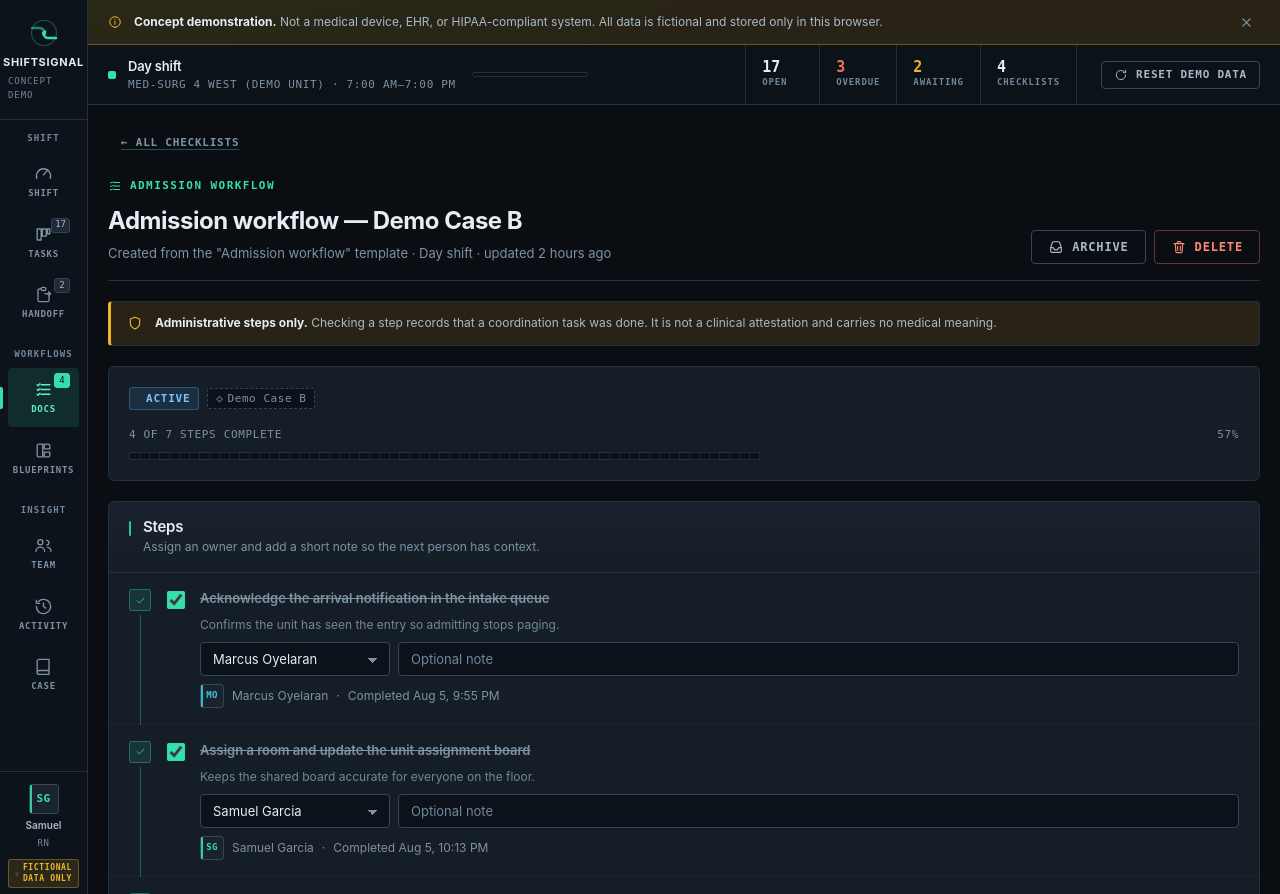
Test case: Checklist workflows › reopens a completed step
Click the checkbox labelled "Acknowledge the arrival notification in the intake queue". click: (176, 600)
box: [167, 591, 185, 609]
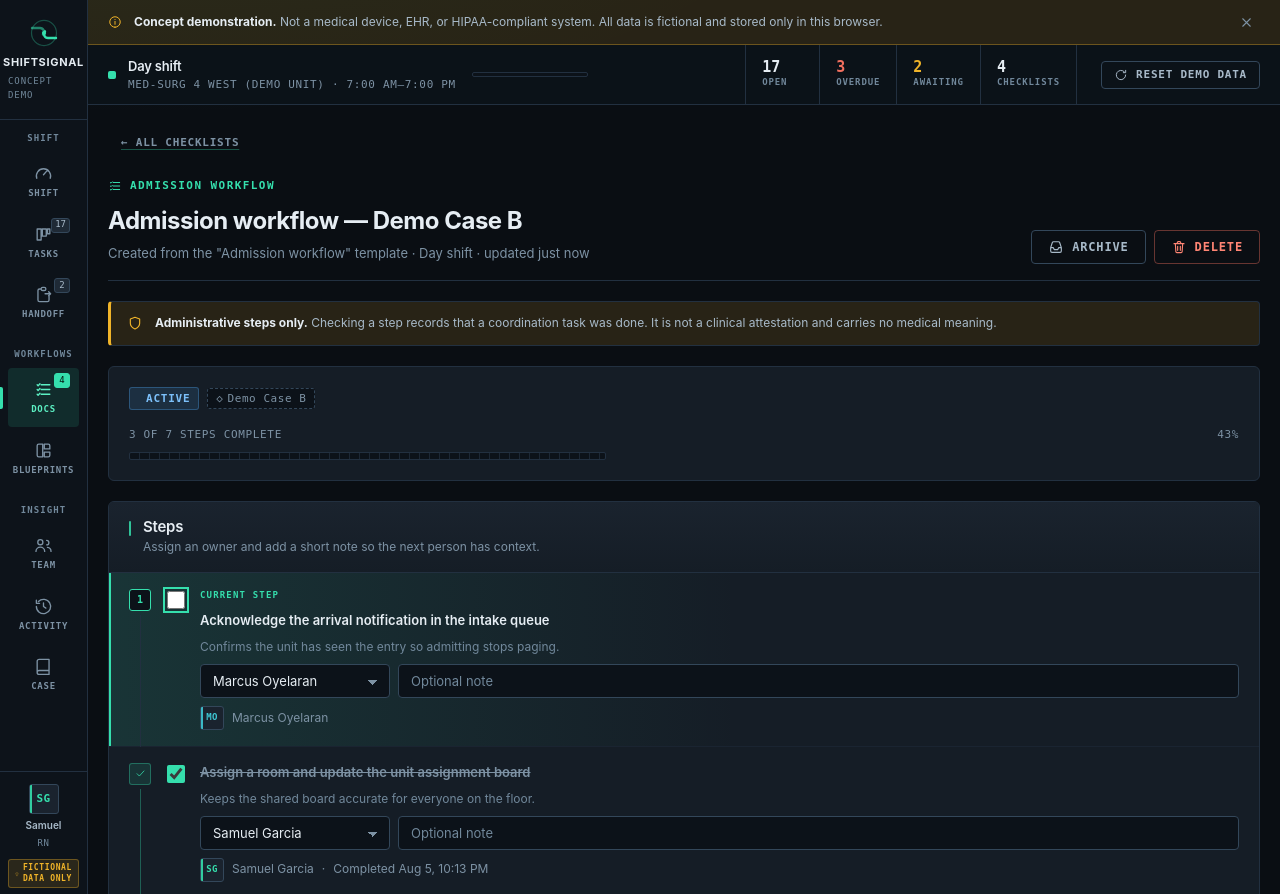
Check: the text "3 of 7 steps complete" is shown, box [129, 426, 282, 444]
